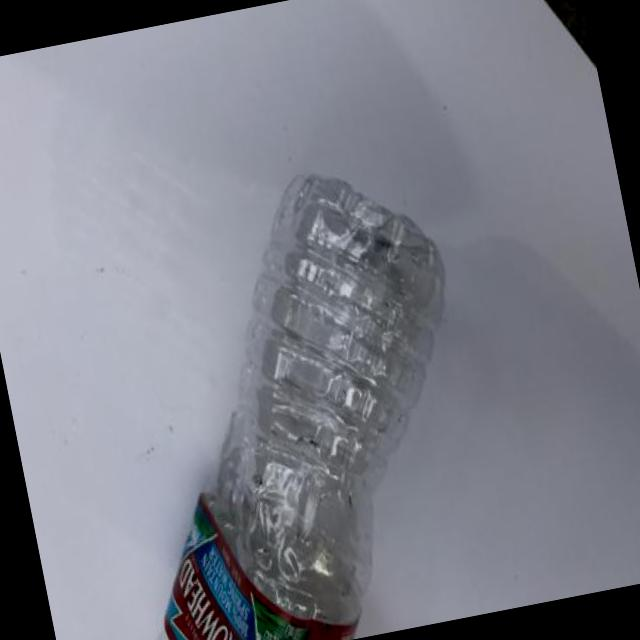Recycle: (52, 147, 511, 640)
